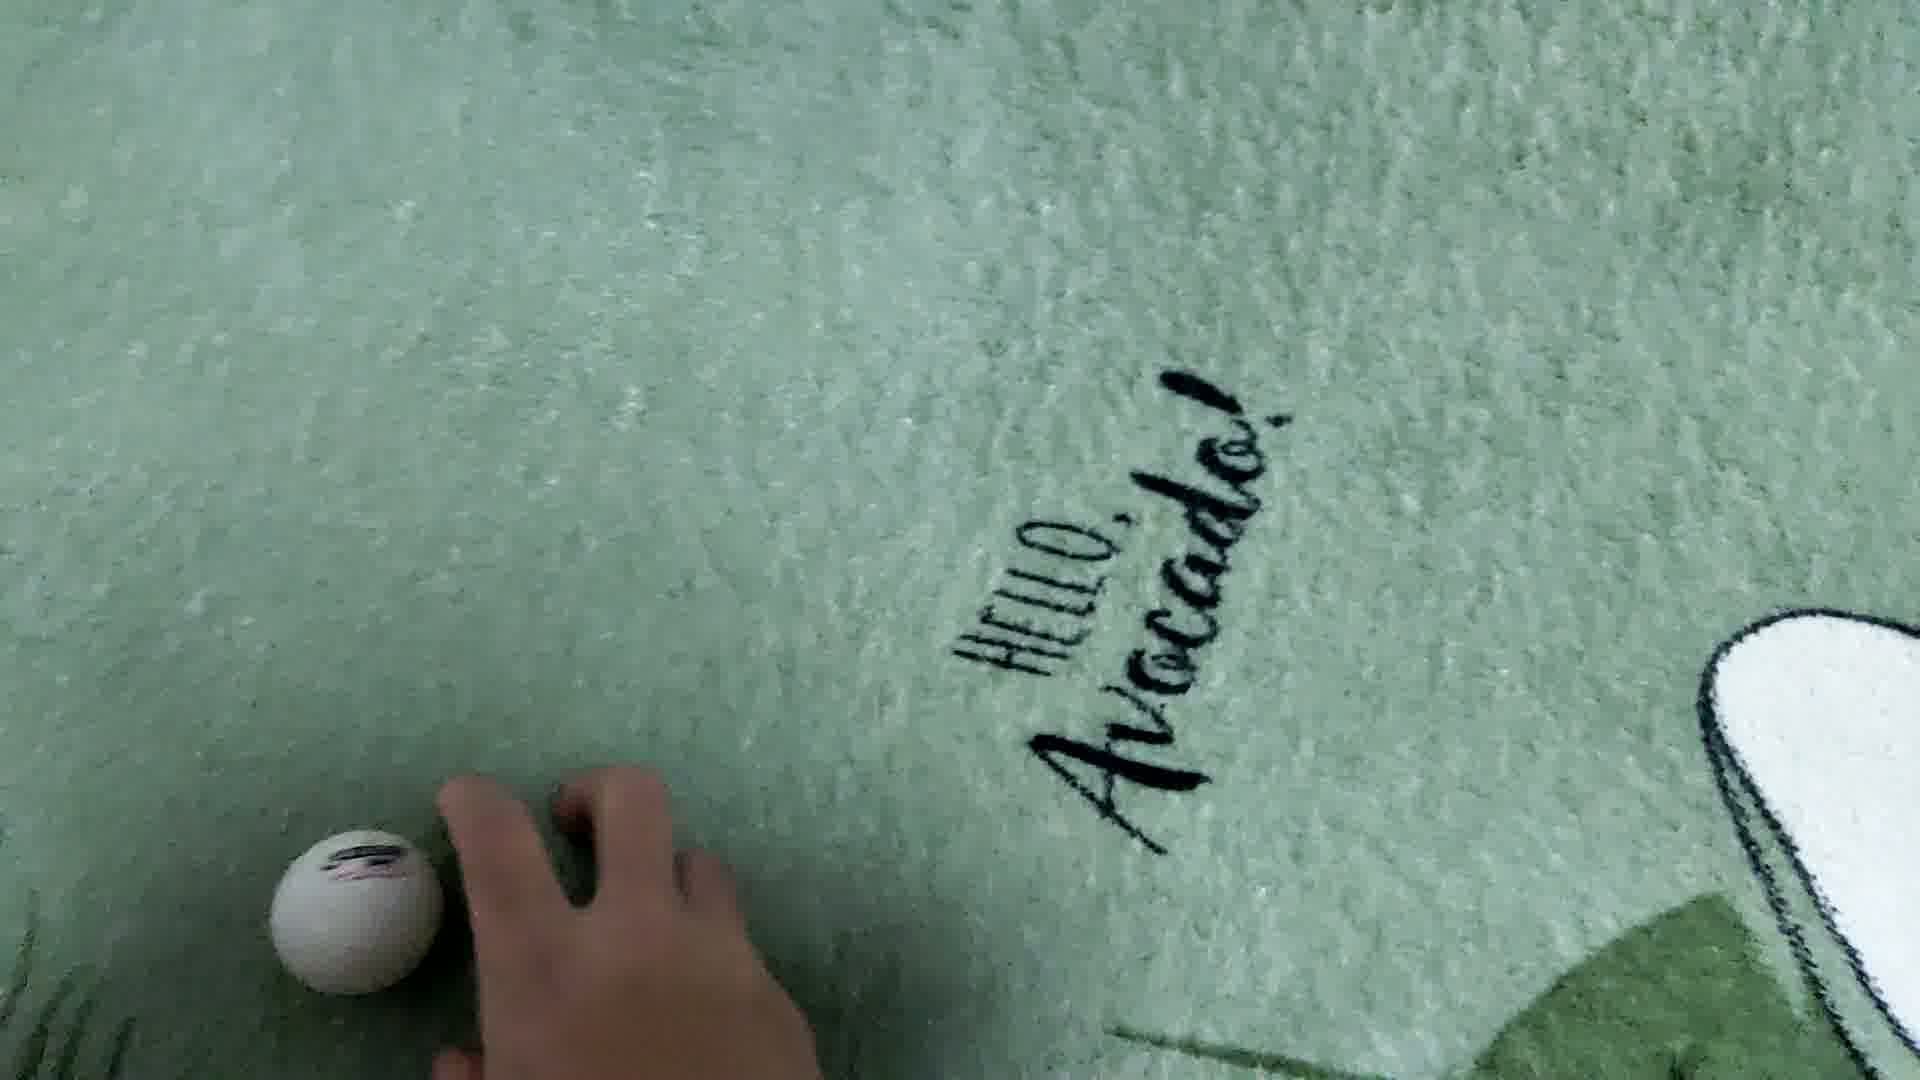Ball: (264, 824, 446, 998)
